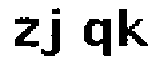j: (42, 5, 66, 60)
k: (114, 5, 151, 56)
q: (85, 16, 113, 59)
z: (12, 15, 42, 49)
